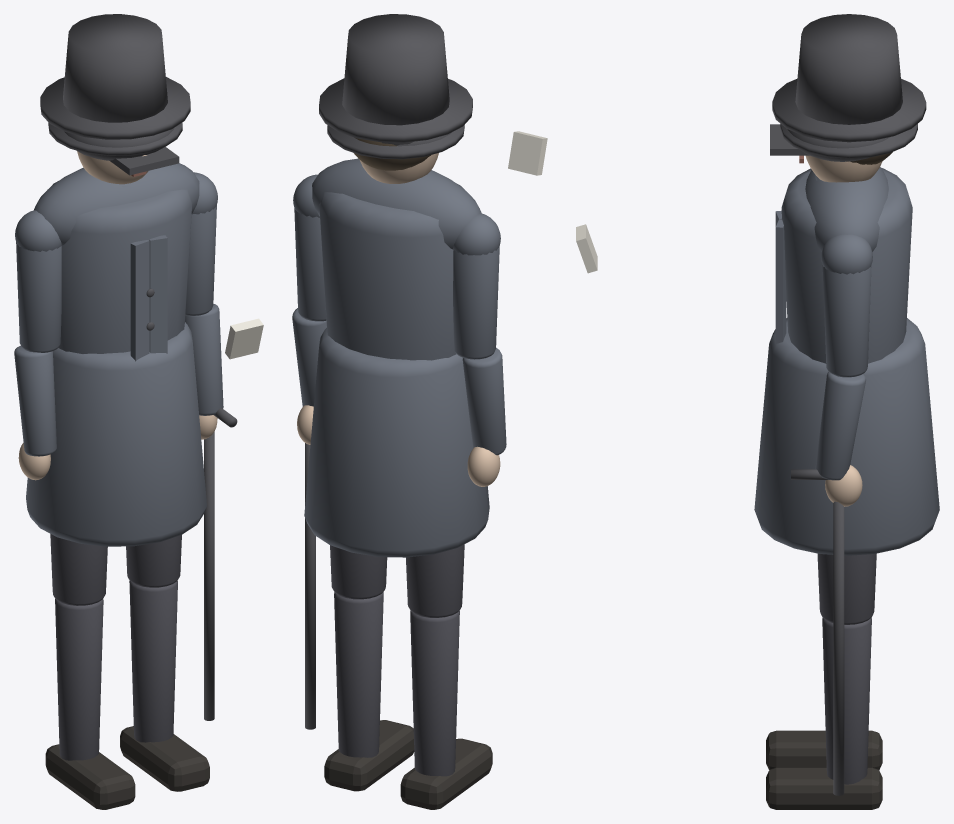
Rendered from person.glb.
3 renders of one model, left to right at view 1: azimuth 30°, elevation 25°; view 2: azimuth 150°, elevation 25°; view 3: azimuth 270°, elevation 25°, orthographic. The views are drawn at different scales.
Visible parts, largest first — view 1: CoatSkirt, Torso, TopHatC, ShinL, ShinR, Shoulders, ArmUL, TopHat, ArmFL, FootL, FootR, ThighL (+14 smaller); view 2: CoatSkirt, Torso, TopHatC, ShinR, ShinL, Shoulders, ArmUL, TopHat, ThighL, ArmFL, FootL, FootR (+12 smaller); view 3: CoatSkirt, Torso, TopHatC, ShinR, ArmUR, Shoulders, FootR, TopHat, ArmFR, Cane, ThighR, FootL (+7 smaller).
Part boxes in pixels (x1,y1,x2,y2): CoatSkirt: [26, 322, 206, 546]; Torso: [50, 181, 192, 353]; TopHatC: [63, 14, 167, 122]; ShinL: [55, 598, 103, 760]; ShinR: [129, 580, 177, 742]; Shoulders: [33, 163, 199, 245]; ArmUL: [16, 242, 61, 352]; TopHat: [40, 77, 190, 139]; ArmFL: [14, 345, 56, 456]; FootL: [45, 744, 135, 809]; FootR: [120, 726, 209, 791]; ThighL: [50, 534, 107, 605]; CoatSkirt: [304, 328, 489, 557]; Torso: [319, 183, 464, 360]; TopHatC: [342, 14, 449, 125]; ShinR: [334, 592, 383, 757]; ShinL: [410, 610, 459, 776]; Shoulders: [312, 158, 481, 249]; ArmUL: [453, 245, 499, 359]; TopHat: [319, 78, 472, 142]; ThighL: [406, 544, 464, 617]; ArmFL: [462, 347, 506, 455]; FootL: [400, 738, 492, 809]; FootR: [324, 720, 414, 791]; CoatSkirt: [754, 318, 939, 555]; Torso: [781, 168, 912, 363]; TopHatC: [795, 14, 902, 124]; ShinR: [822, 618, 871, 784]; ArmUR: [822, 265, 871, 377]; Shoulders: [805, 167, 888, 251]; FootR: [766, 767, 882, 809]; TopHat: [772, 78, 926, 142]; ArmFR: [815, 372, 865, 480]; Cane: [833, 501, 844, 795]; ThighR: [817, 553, 876, 624]; FootL: [766, 730, 882, 769].
Bounding box in the file's own units: 0.5654 × 1.99 × 0.8732.
